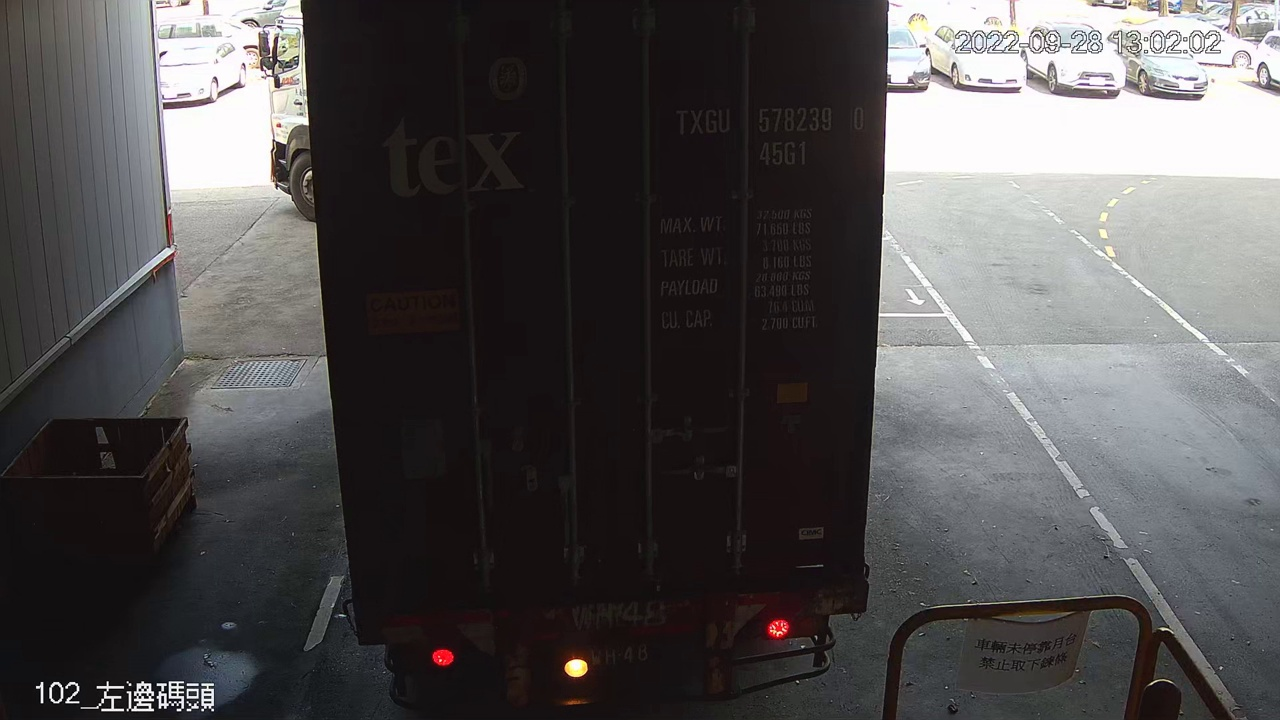container: (666, 97, 875, 175)
